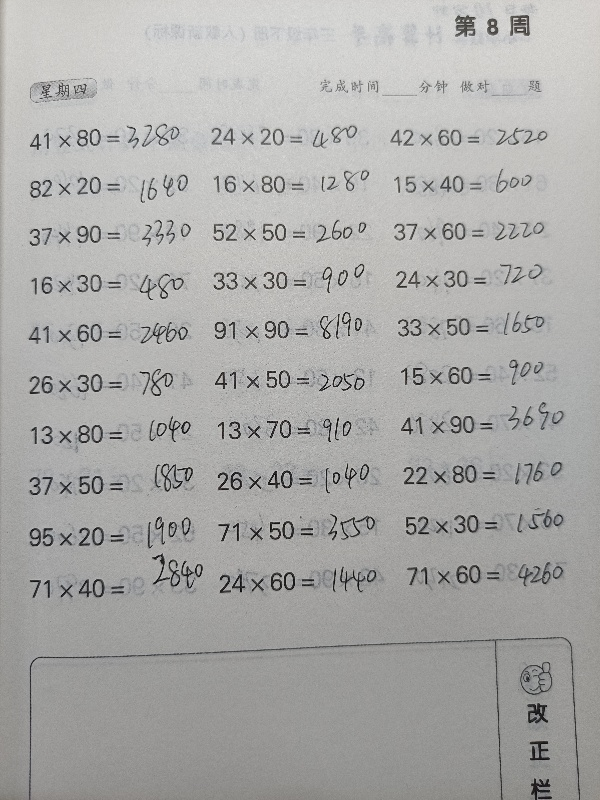equation: (208, 459, 388, 504), (211, 559, 391, 601), (206, 308, 386, 350), (208, 411, 388, 451), (210, 511, 390, 549), (204, 213, 384, 251), (202, 118, 382, 156), (21, 119, 201, 157), (207, 362, 387, 398), (22, 571, 202, 606), (21, 519, 201, 554), (396, 506, 576, 541), (20, 467, 200, 502), (389, 217, 574, 251), (398, 557, 578, 591), (394, 457, 574, 491), (22, 417, 202, 451), (392, 408, 572, 442), (20, 366, 200, 400), (20, 316, 200, 350), (389, 310, 569, 344), (22, 266, 202, 300), (205, 263, 385, 297), (20, 218, 200, 252), (204, 167, 384, 201), (392, 359, 572, 392), (388, 263, 568, 296), (21, 170, 201, 203), (387, 168, 567, 201), (382, 122, 562, 154)
